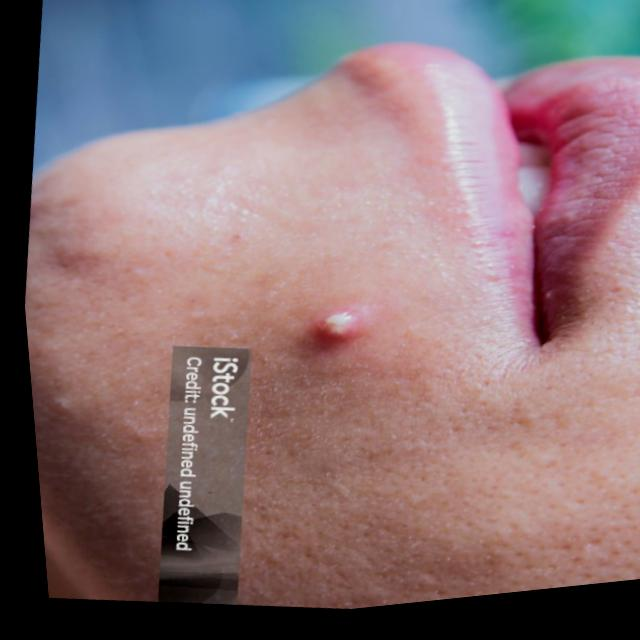pustule: (299, 311, 369, 358)
